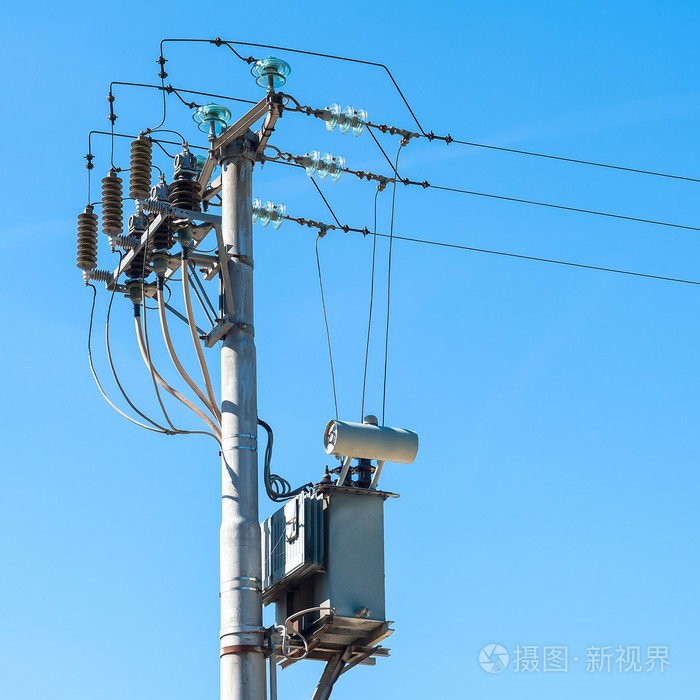insulator: (99, 174, 126, 236), (73, 210, 100, 271), (323, 100, 369, 132), (129, 139, 153, 200), (304, 148, 346, 182), (248, 197, 286, 232)
